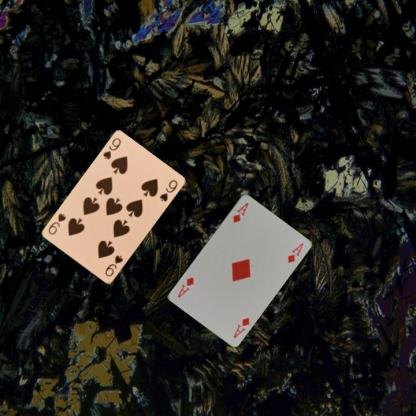9s: (102, 252, 124, 278), (100, 135, 122, 161)
Ad: (230, 199, 250, 224), (230, 314, 250, 339)
